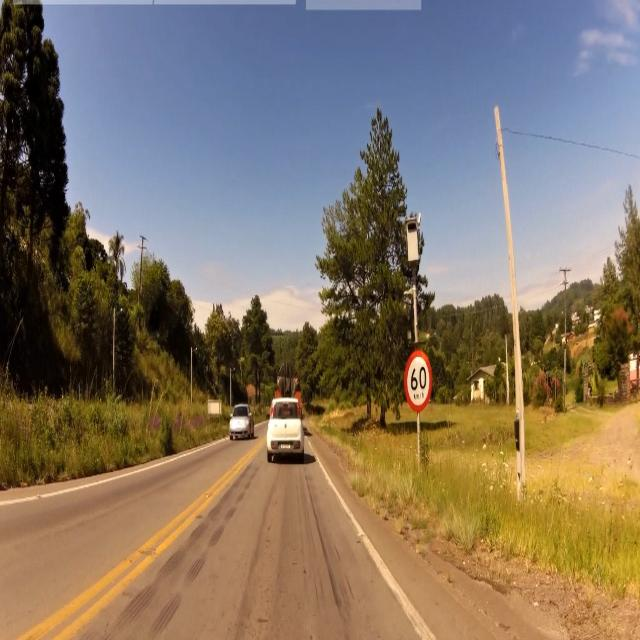R-19: (402, 350, 433, 412)
